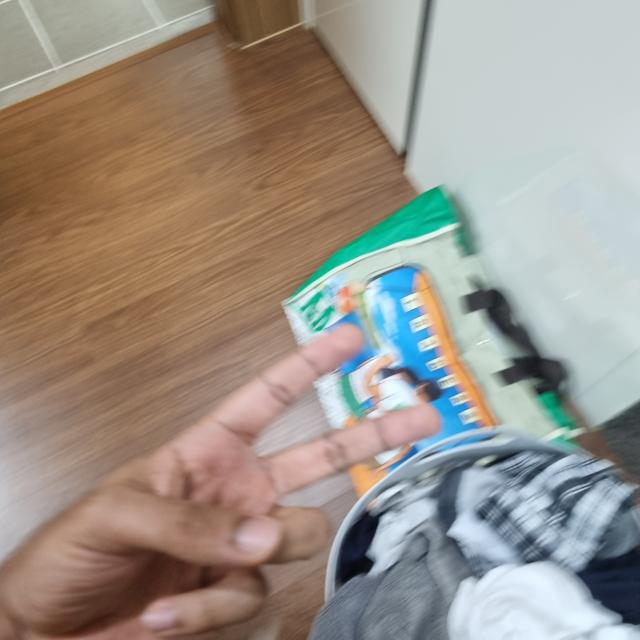Scissors: (1, 323, 428, 640)
